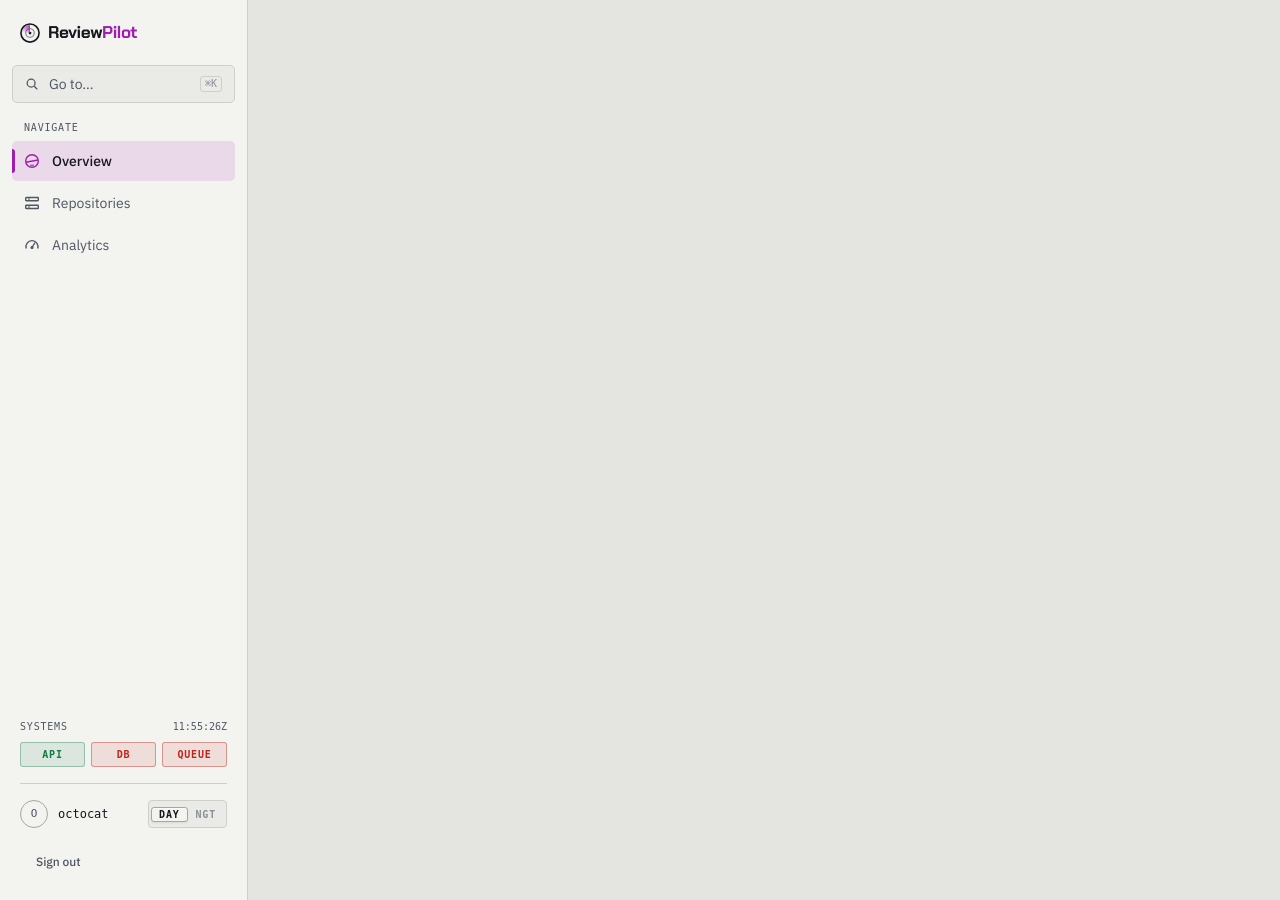
Test case: command palette › closes on Escape and says when nothing matches
The width and height of the screenshot is (1280, 900).
Expected: the text "octocat" is shown, [58,807,109,821]
Click the button "Go to… ⌘K": (124, 84) [12,65,235,103]
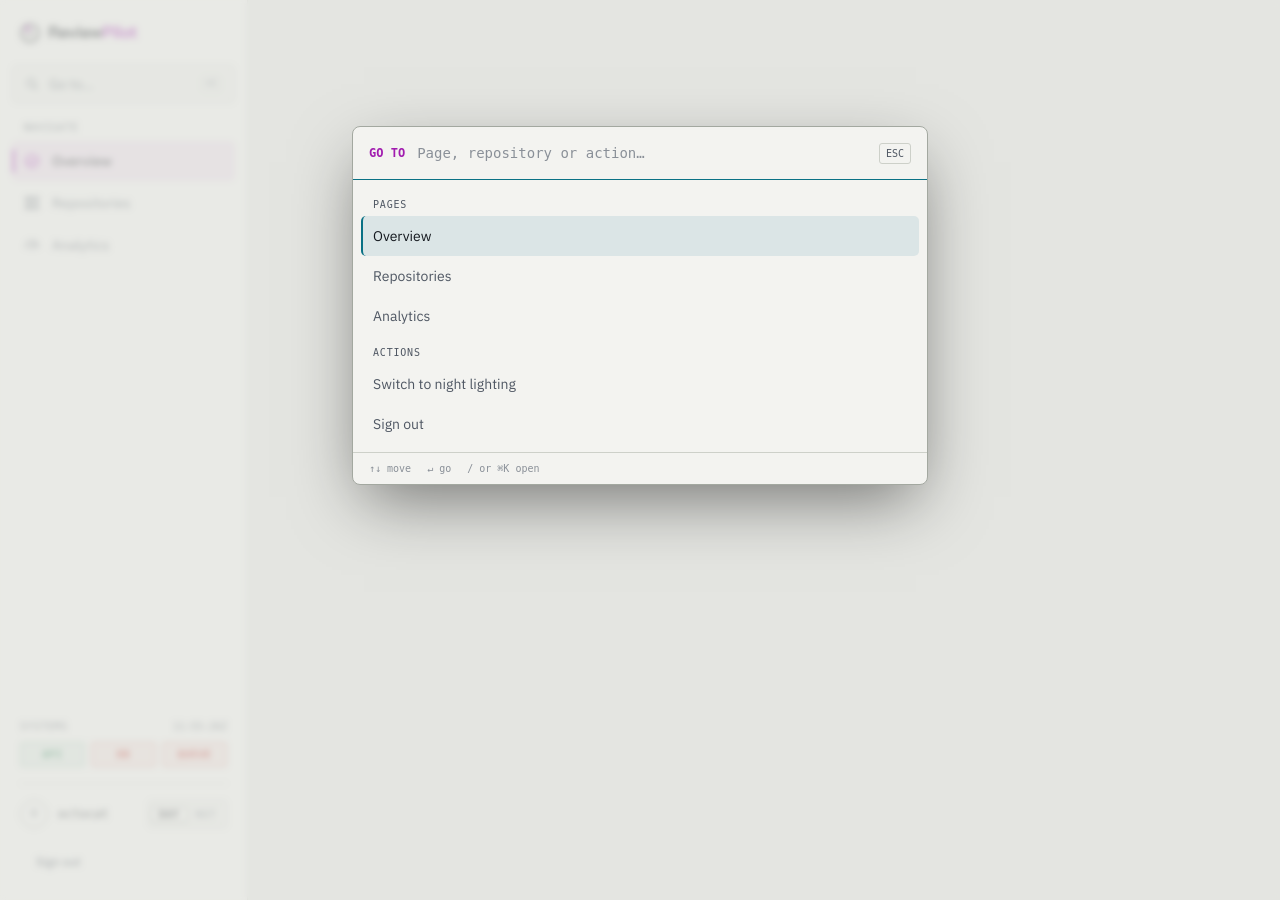
In the dropdown: (642, 153) [417,127,867,179], type "zzz"
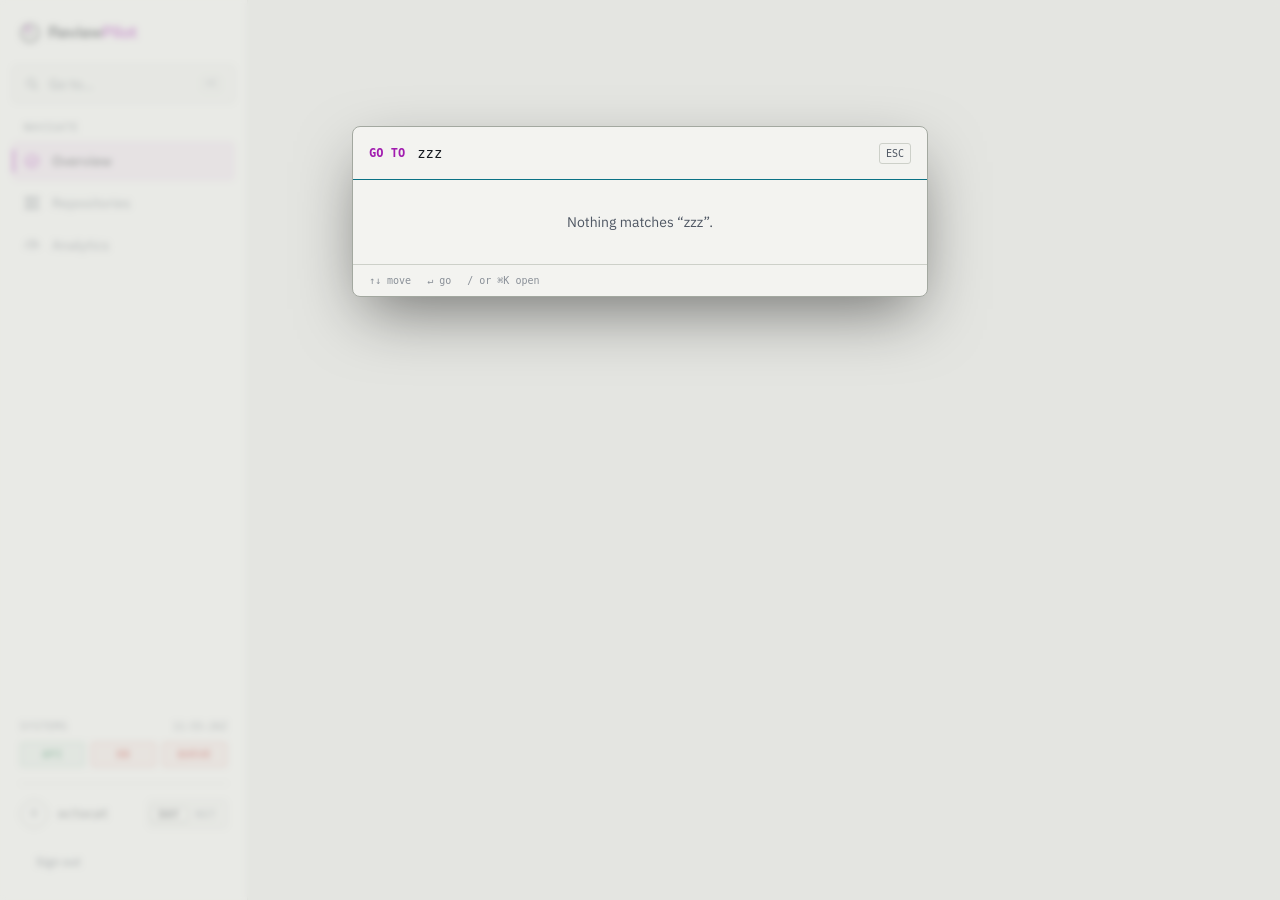
Expected: the list item "Nothing matches “zzz”." is shown, [567,213,713,231]
Press Escape
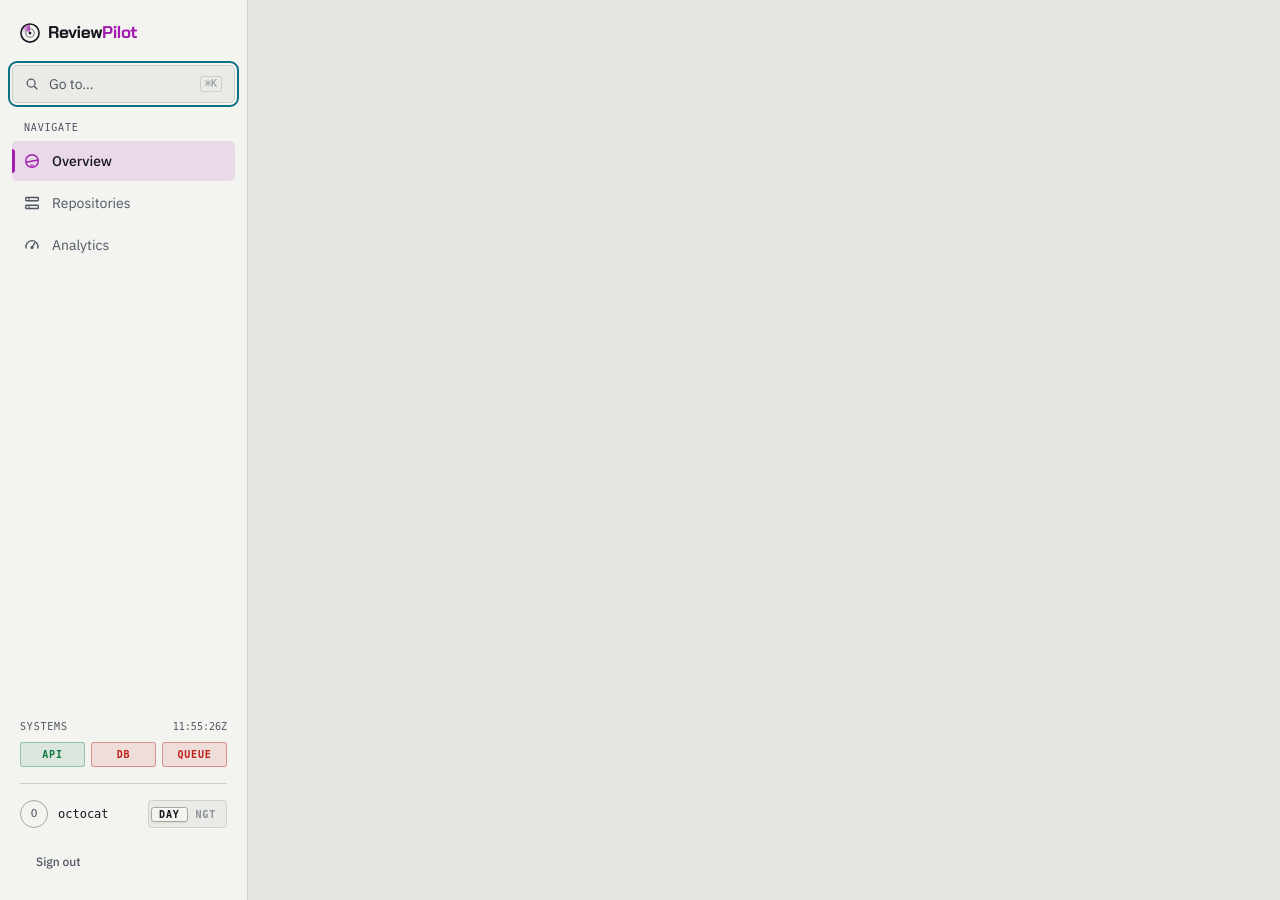
Expected: the dialog is gone
